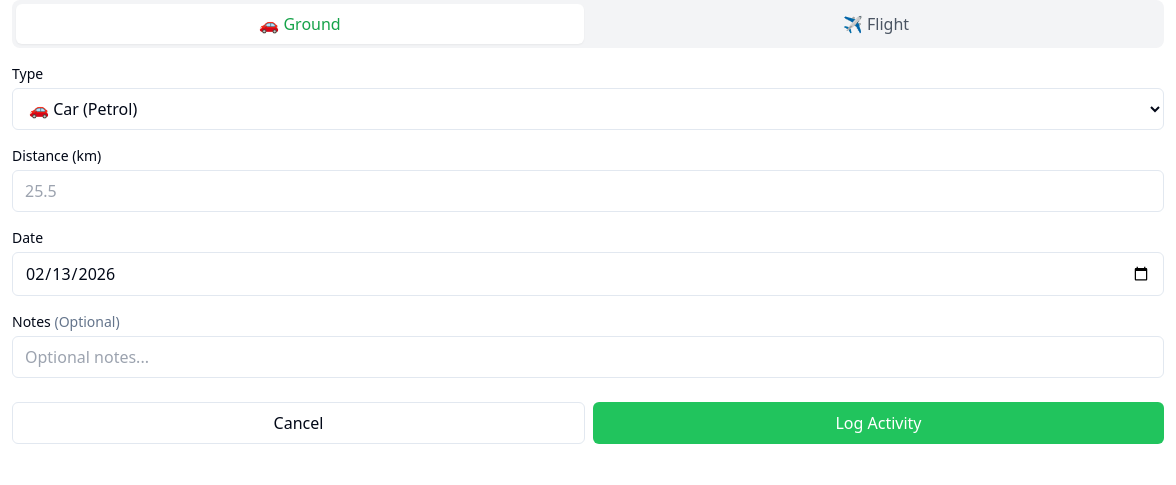
Scenario: TransportForm › shows validation error for empty distance
What coordinates should you click on to do the following:
click the button "Log Activity"
I would click on:
 (878, 423)
Its box is top-left (593, 402), bottom-right (1164, 444).
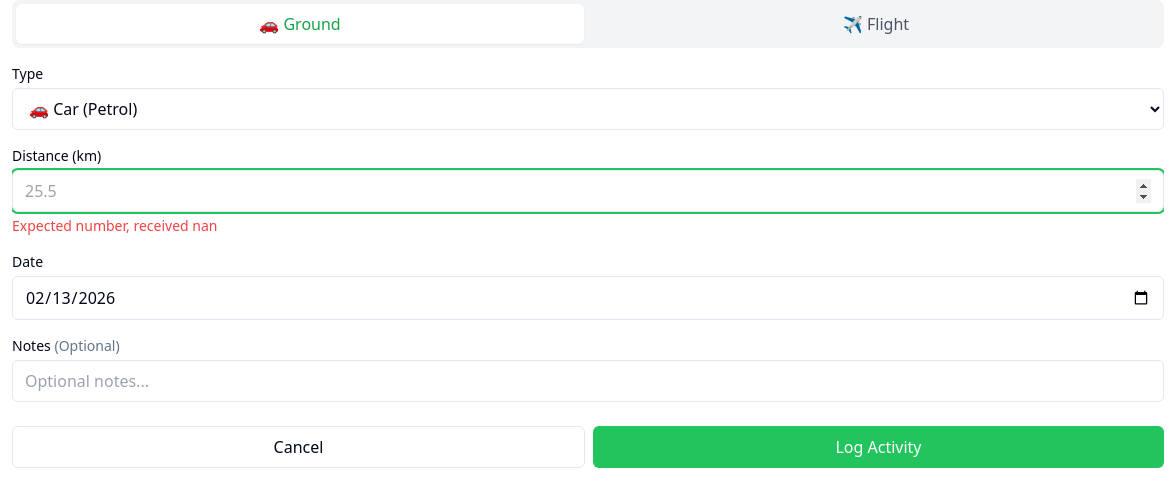
Now the message is shown, box top-left (12, 216), bottom-right (218, 235)
